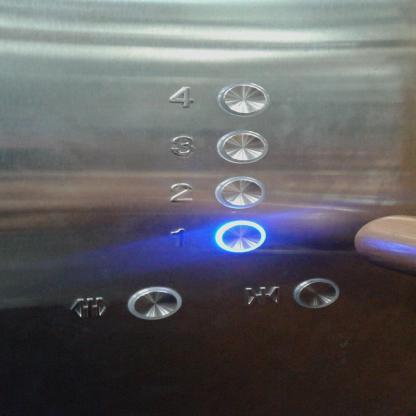1: (159, 218, 272, 256)
2: (159, 174, 272, 212)
3: (161, 127, 273, 165)
4: (161, 78, 274, 118)
close: (236, 275, 344, 314)
open: (66, 284, 187, 325)
